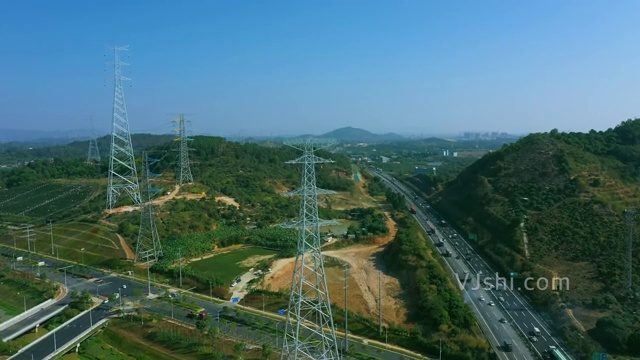tower_body: (272, 133, 351, 360), (94, 39, 144, 211)
tower_foot: (281, 316, 340, 359), (102, 180, 140, 208)
tower_head: (279, 137, 340, 165), (98, 41, 135, 53)
